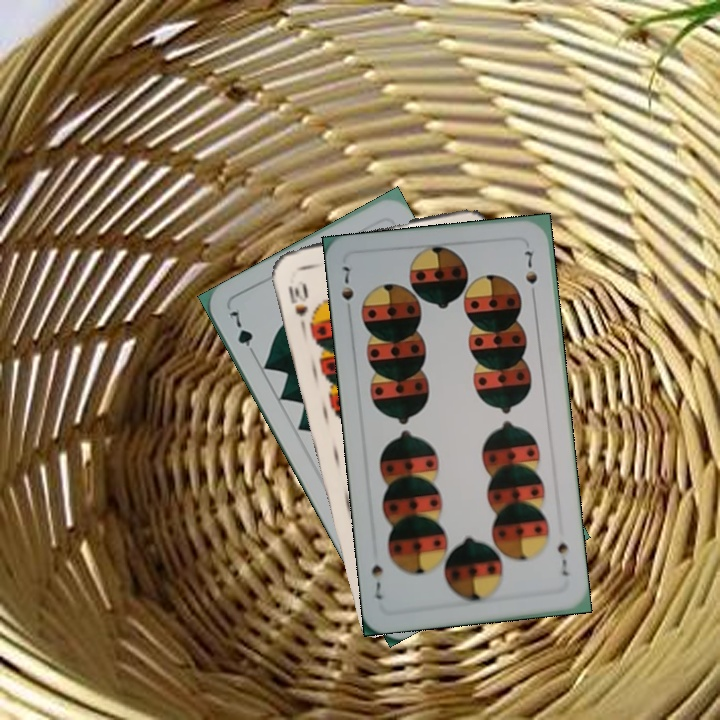G7: (222, 306, 260, 360)
S10: (284, 280, 310, 332)
S7: (337, 262, 357, 319), (553, 539, 571, 579)
